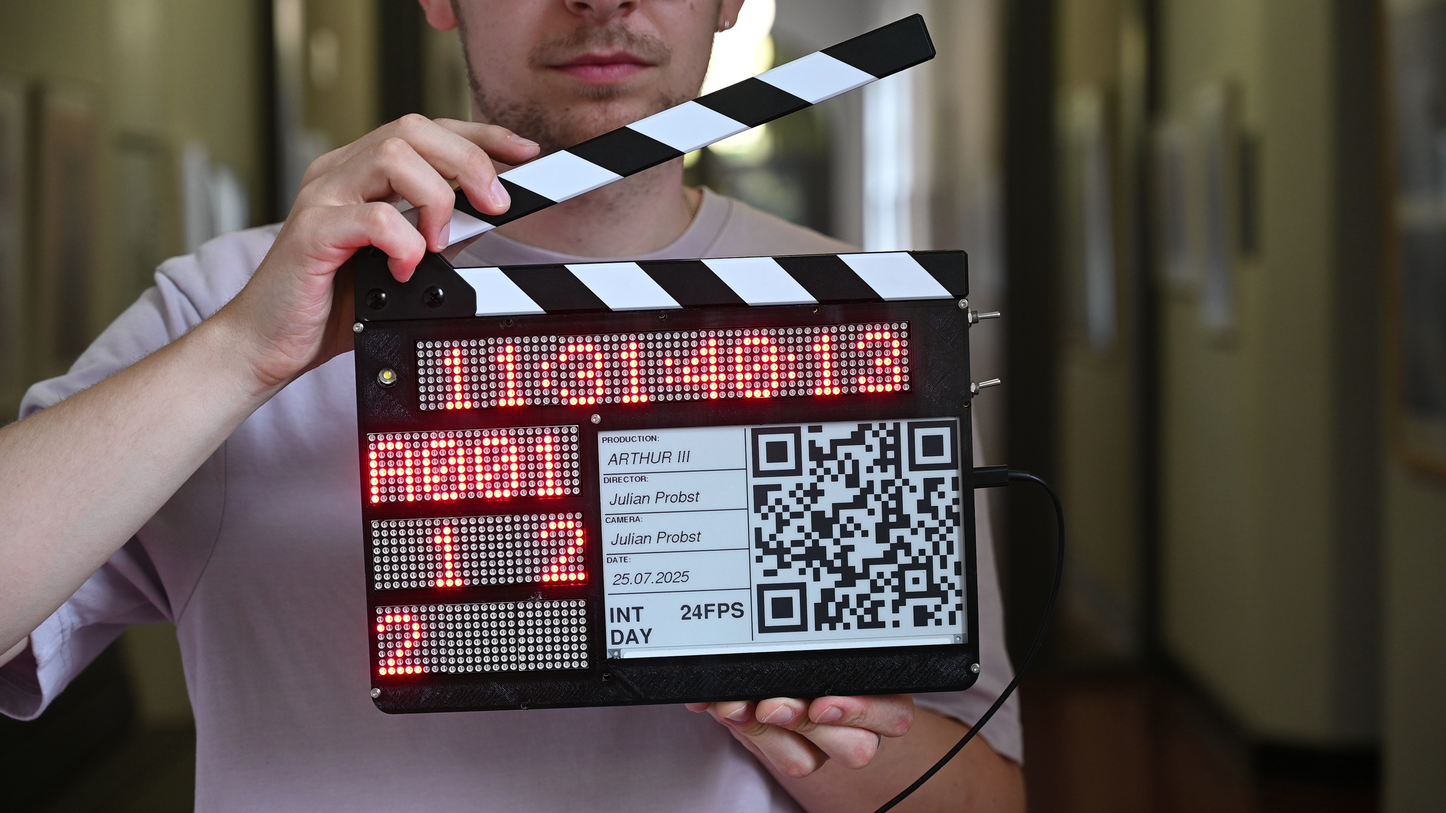ARC-SLATE: (355, 251, 979, 715)
